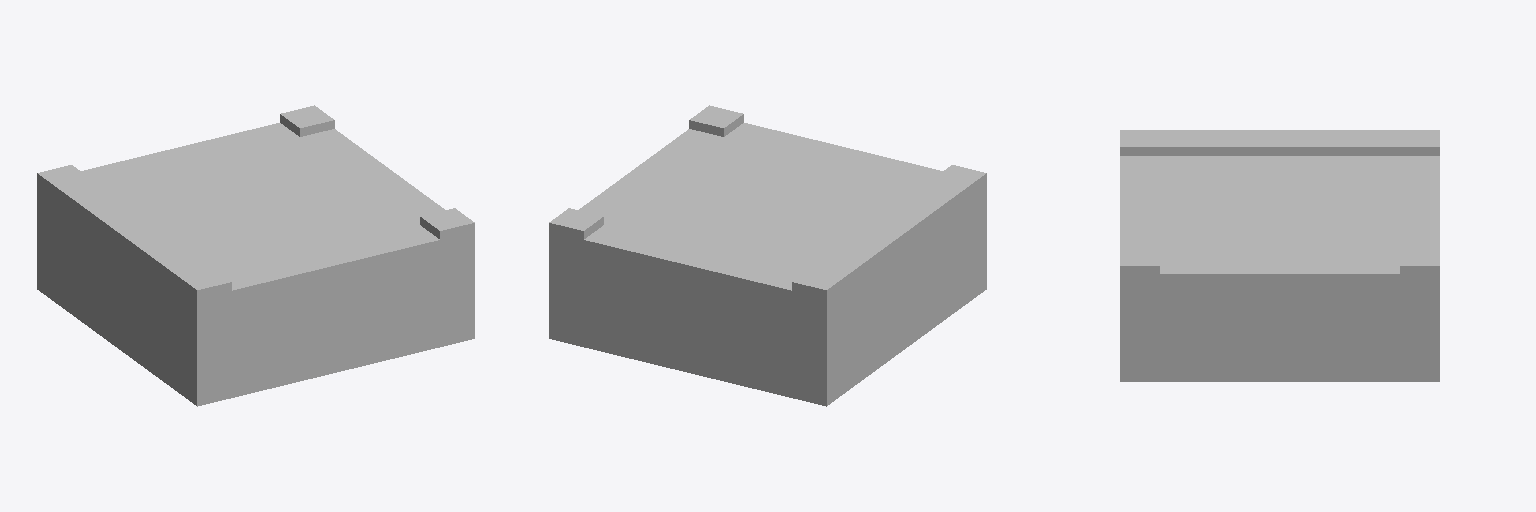
File: tile_096.obj
3 views of the same model, side by side, from view 1: azimuth 30°, elevation 25°; view 2: azimuth 150°, elevation 25°; view 3: azimuth 270°, elevation 25° (orthographic).
Visible parts, largest first — view 1: tile_096; view 2: tile_096; view 3: tile_096.
Part boxes in pixels (x1,y1,x2,y2): tile_096: (37,105,474,406); tile_096: (549,105,986,406); tile_096: (1120,130,1439,381).
Size of the model in its own units: 1 by 0.4 by 1.